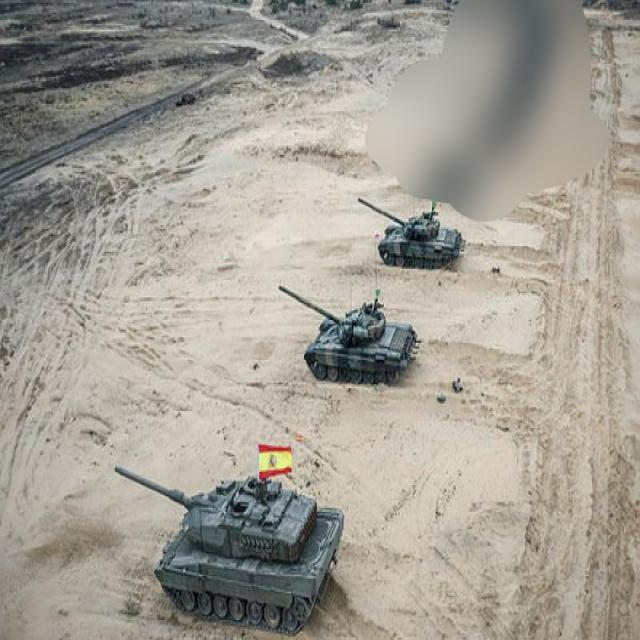tank: (112, 458, 346, 636), (278, 278, 423, 388), (357, 192, 466, 269)
